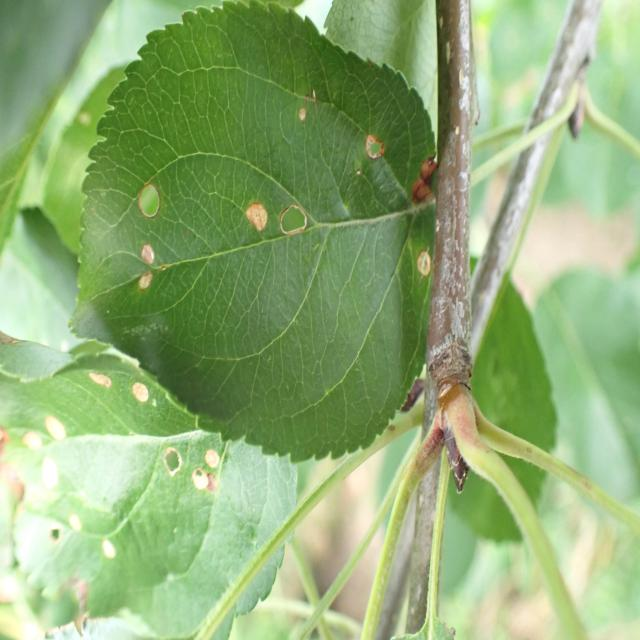Black Rot: (121, 234, 172, 314), (17, 414, 72, 484), (184, 432, 219, 511), (277, 195, 322, 254), (150, 436, 186, 506), (131, 170, 169, 232), (96, 523, 129, 592), (364, 121, 388, 201), (294, 88, 328, 138), (242, 191, 276, 239), (410, 234, 438, 292), (85, 360, 116, 410), (128, 367, 159, 414), (60, 496, 88, 544)
